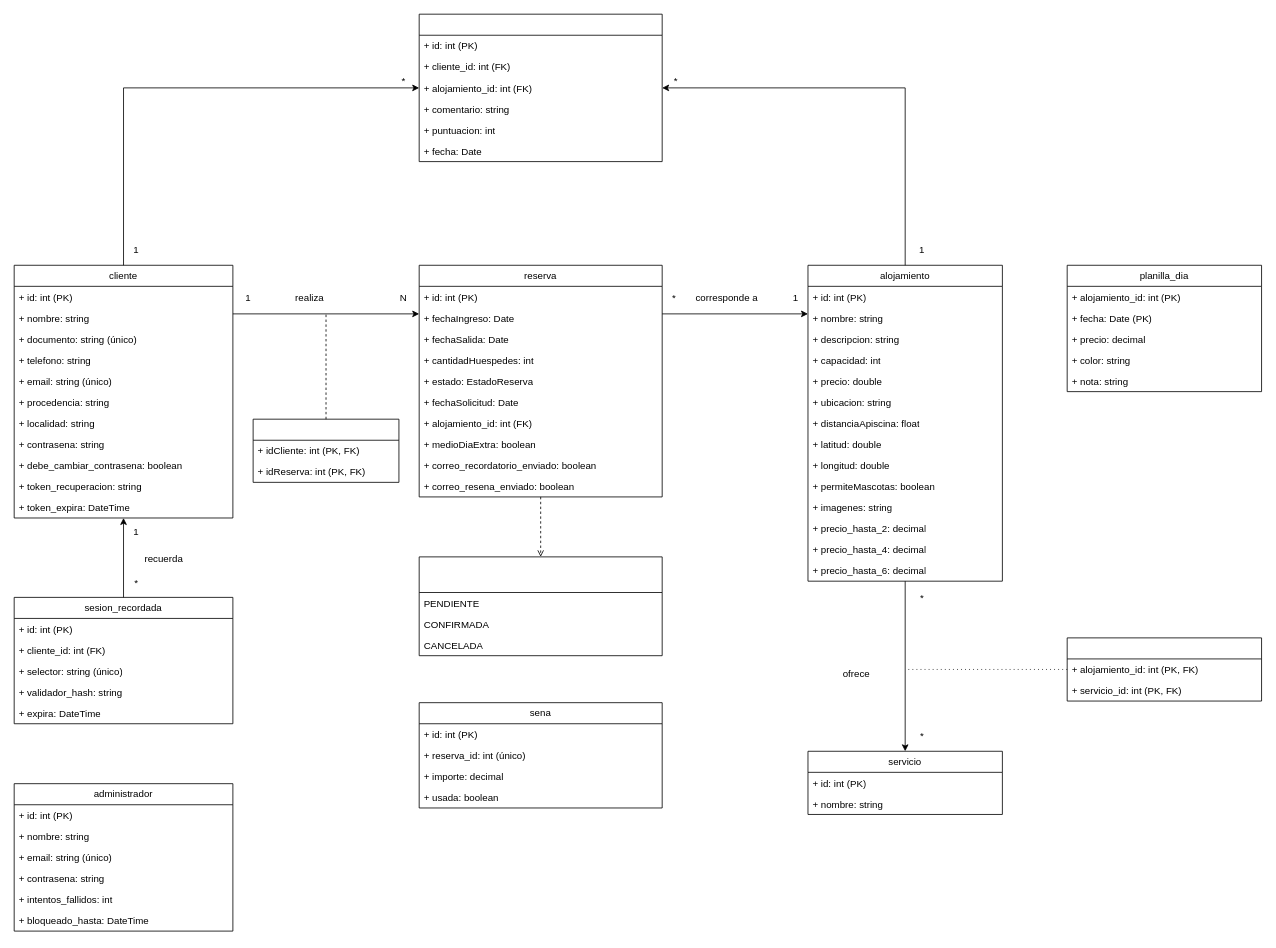
Some shapes in this 1276 by 948 pixel diagram are drawn without their labels. The shapes that lost their labels are listed below. From the top down, each one's box as (x1, y1, x2, y2) in pixels, then its label:
(418, 13, 662, 162): resena
(252, 418, 399, 482): cliente_reserva
(418, 556, 662, 656): <Enum> EstadoReserva
(1066, 637, 1262, 701): alojamiento_servicio
